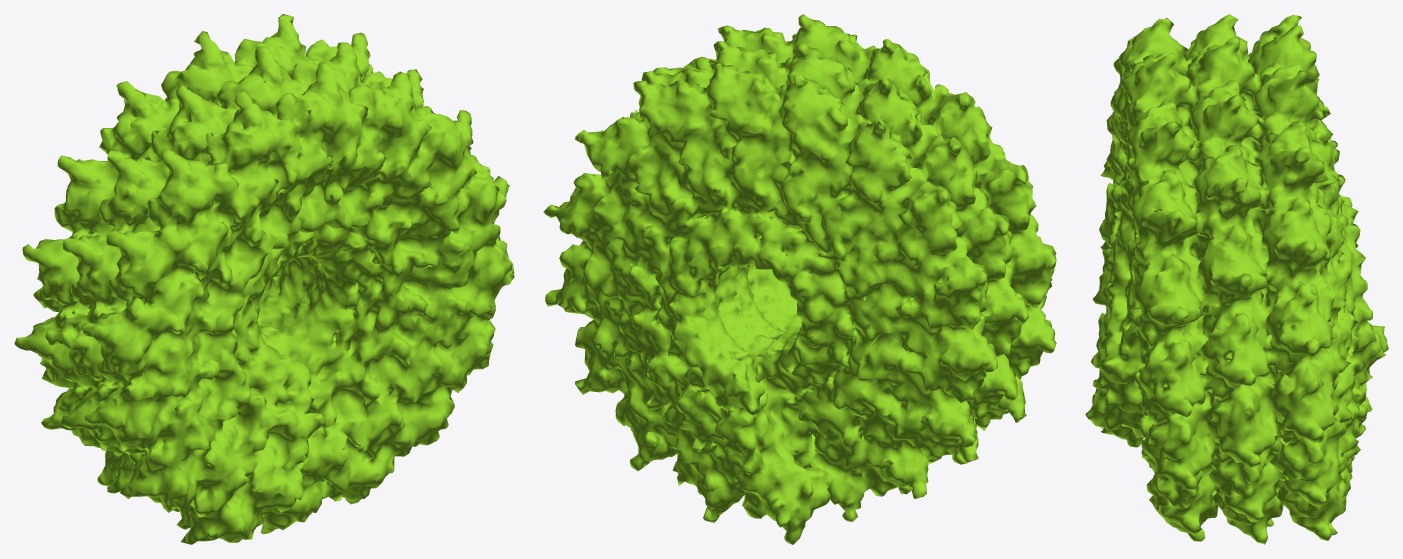
The model's file is mosaico-tabaco-real.glb.
3 renders of one model, left to right at view 1: azimuth 30°, elevation 25°; view 2: azimuth 150°, elevation 25°; view 3: azimuth 270°, elevation 25°, orthographic. The views are drawn at different scales.
Parts seen in each view (by area): view 1: Vírus; view 2: Vírus; view 3: Vírus.
Boxes of the visible parts, left/top/right/bottom form: Vírus: left=14, top=14, right=514, bottom=544; Vírus: left=543, top=14, right=1056, bottom=544; Vírus: left=1085, top=14, right=1388, bottom=544.
Bounding box in the file's own units: 13107 × 13105 × 7518.
